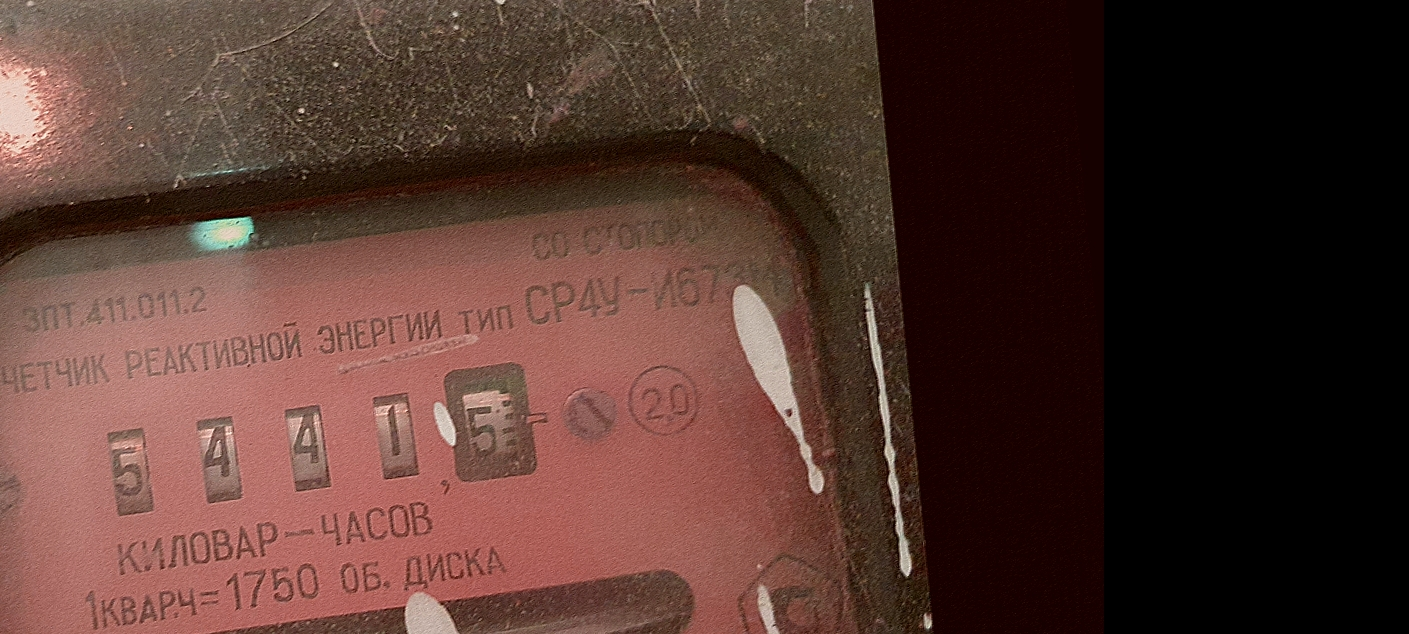1: (378, 400, 407, 461)
4: (283, 404, 326, 473), (196, 419, 237, 483)
5: (462, 398, 503, 463), (106, 441, 149, 501)
screen: (77, 336, 564, 546)
